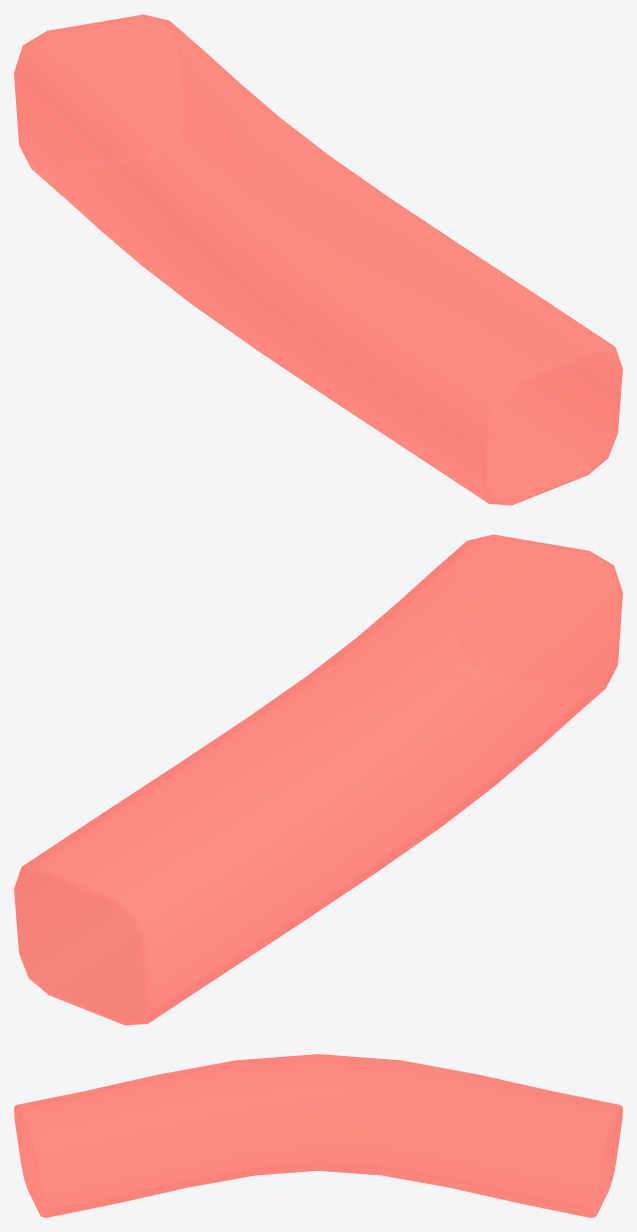
Rendered from bike_electric__tail_light.glb.
3 renders of one model, top to bottom at view 1: azimuth 30°, elevation 25°; view 2: azimuth 150°, elevation 25°; view 3: azimuth 270°, elevation 25°, orthographic. The views are drawn at different scales.
Visible parts, largest first — view 1: electrical__tail_light; view 2: electrical__tail_light; view 3: electrical__tail_light.
Boxes of the visible parts, box(x1,y1,x2,y2) form: electrical__tail_light: box(14, 14, 622, 505); electrical__tail_light: box(14, 534, 622, 1025); electrical__tail_light: box(14, 1054, 622, 1217).
Bounding box in the file's own units: 1.98 × 1.6 × 7.54.
